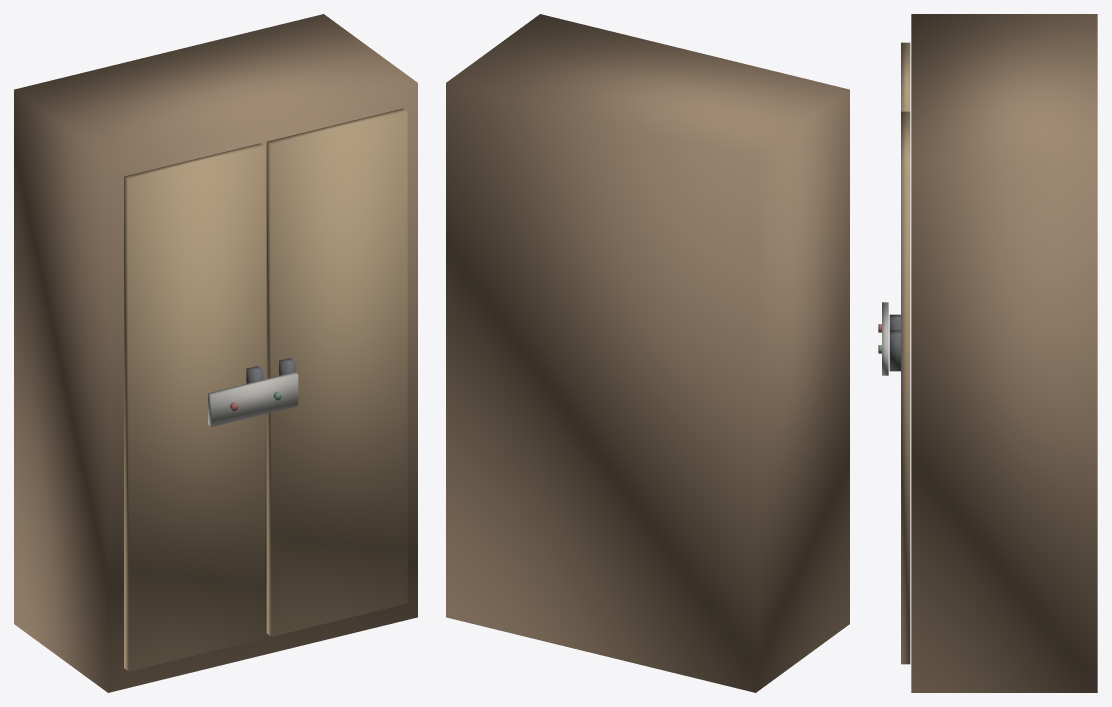
Rendered from tv_stand__tall.glb.
3 views of the same model, side by side, from view 1: azimuth 30°, elevation 25°; view 2: azimuth 150°, elevation 25°; view 3: azimuth 270°, elevation 25° (orthographic).
Parts seen in each view (by area): view 1: world; view 2: world; view 3: world.
Part boxes in pixels (<box>): world: <box>14,14,417,692</box>; world: <box>446,14,849,692</box>; world: <box>878,14,1097,692</box>.
Bounding box in the file's own units: 0.95 × 1.57 × 0.5885.
